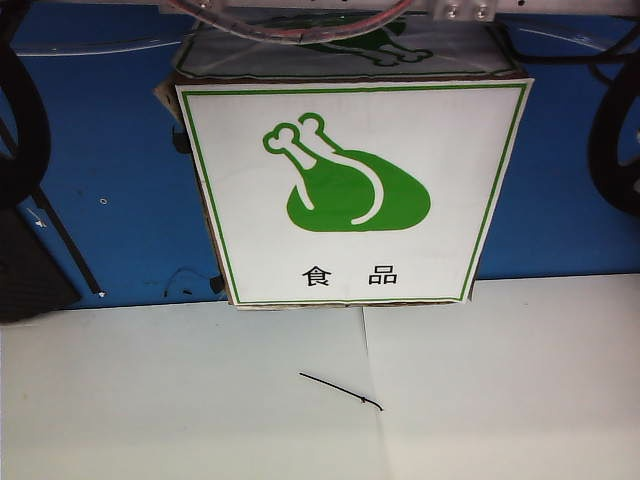Cube_food: (253, 108, 441, 293)
